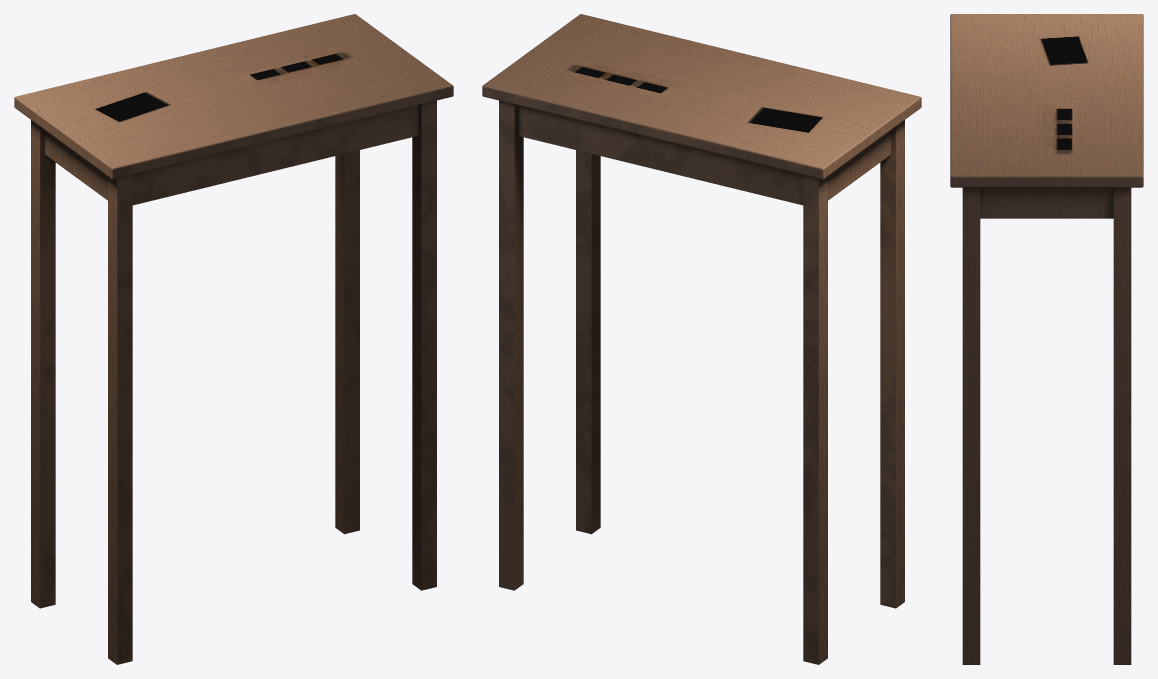
Rendered from 814_value.glb.
3 views of the same model, side by side, from view 1: azimuth 30°, elevation 25°; view 2: azimuth 150°, elevation 25°; view 3: azimuth 270°, elevation 25° (orthographic). The views are drawn at different scales.
Parts seen in each view (by area): view 1: Table; view 2: Table; view 3: Table.
Boxes of the visible parts, left/top/right/bottom form: Table: left=14, top=14, right=453, bottom=664; Table: left=482, top=14, right=921, bottom=664; Table: left=950, top=14, right=1143, bottom=664.
Size of what is drawn, in the model's own units: 2.2 by 3.1 by 1.1.
Materials: 1 (1 with a texture image).
